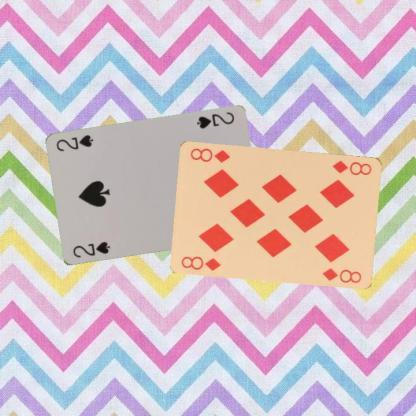2s: (194, 109, 236, 130), (70, 240, 112, 260)
8d: (178, 253, 223, 272), (330, 158, 374, 176)
